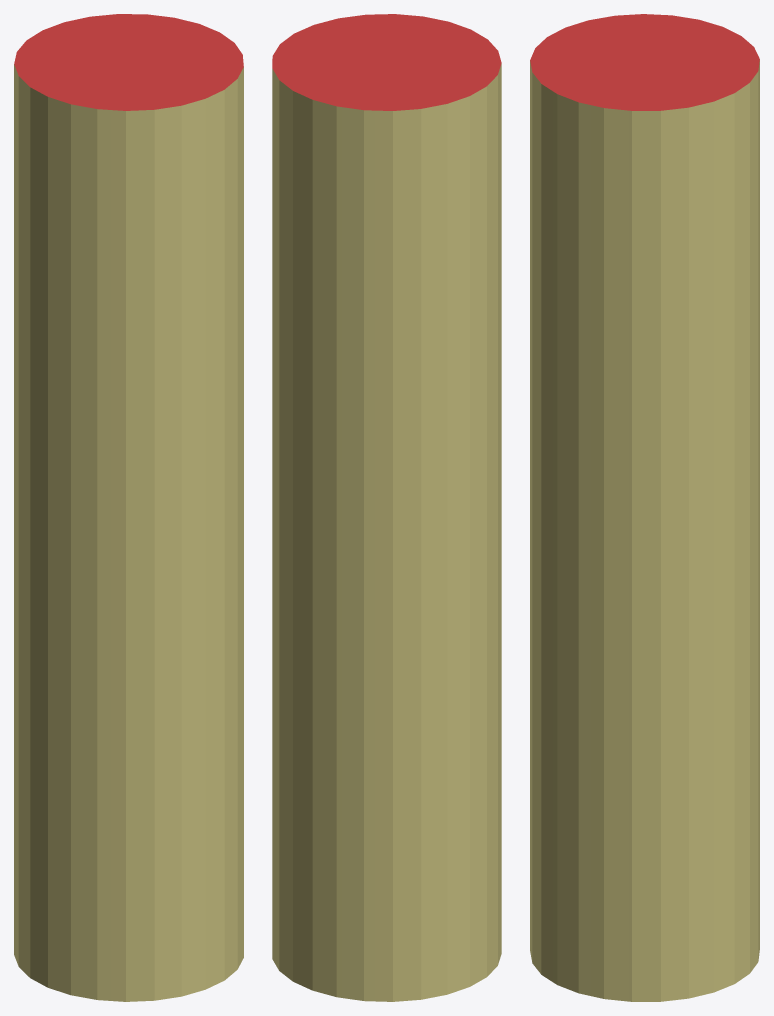
3 views of the same model, side by side, from view 1: azimuth 30°, elevation 25°; view 2: azimuth 150°, elevation 25°; view 3: azimuth 270°, elevation 25° (orthographic).
Size of the model in its own units: 2.95 by 2.96 by 12.65.
